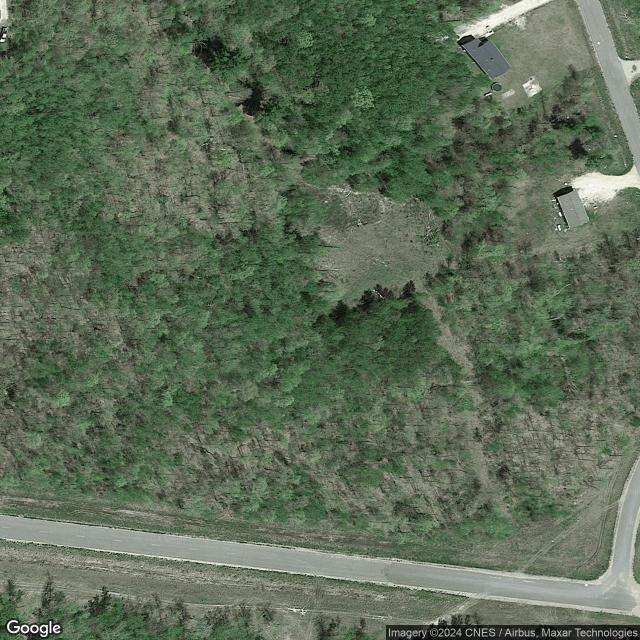Propane: (483, 90, 493, 98), (556, 223, 562, 231)
